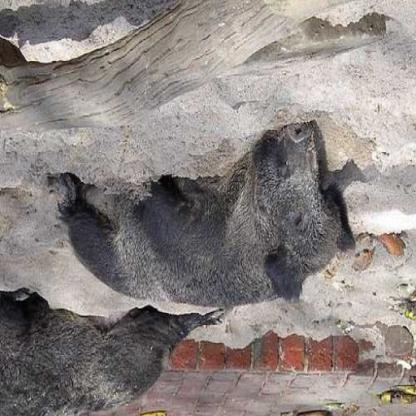boar: (37, 98, 385, 336)
